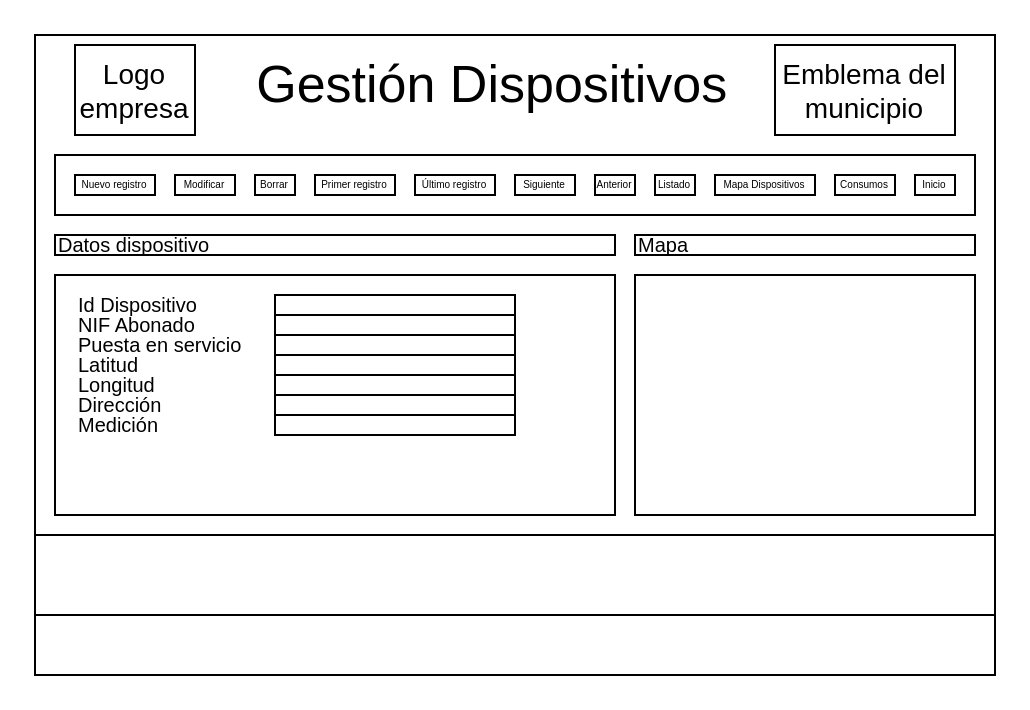
Some shapes in this 1030 by 710 pixel diagram are drawn without their labels. Here are the shapes that lost their labels. From the top down, the centre of each, then its label:
the point at 804,394: GoogleMaps
the point at 514,574: Datos del desarrollador
